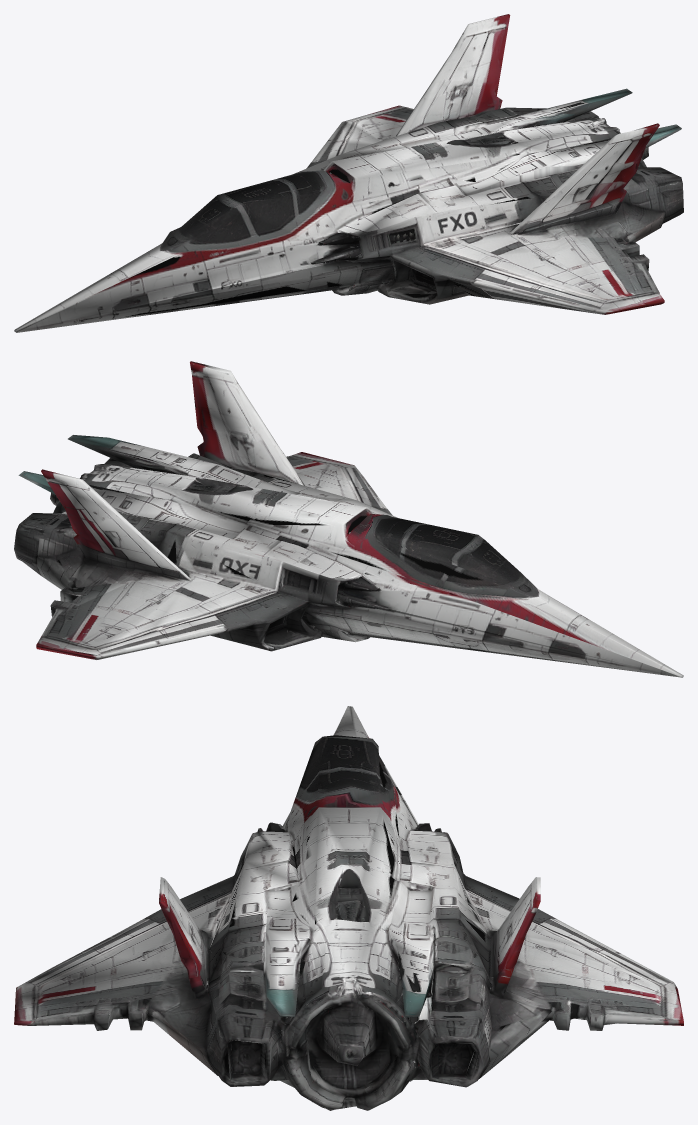
File: spaceship_fighter_simplify0.glb
The picture shows the model from 3 angles, top to bottom: view 1: azimuth 30°, elevation 25°; view 2: azimuth 150°, elevation 25°; view 3: azimuth 270°, elevation 25°; orthographic projection. The views are drawn at different scales.
Visible parts, largest first — view 1: Mesh1.0_Material.001_0; view 2: Mesh1.0_Material.001_0; view 3: Mesh1.0_Material.001_0.
Part boxes in pixels (x1=…): Mesh1.0_Material.001_0: x1=14, y1=14, x2=683, y2=332; Mesh1.0_Material.001_0: x1=14, y1=361, x2=683, y2=677; Mesh1.0_Material.001_0: x1=14, y1=706, x2=683, y2=1110.
Bounding box in the file's own units: 1.91 × 0.4455 × 1.37.
1 material, 1 textured.
